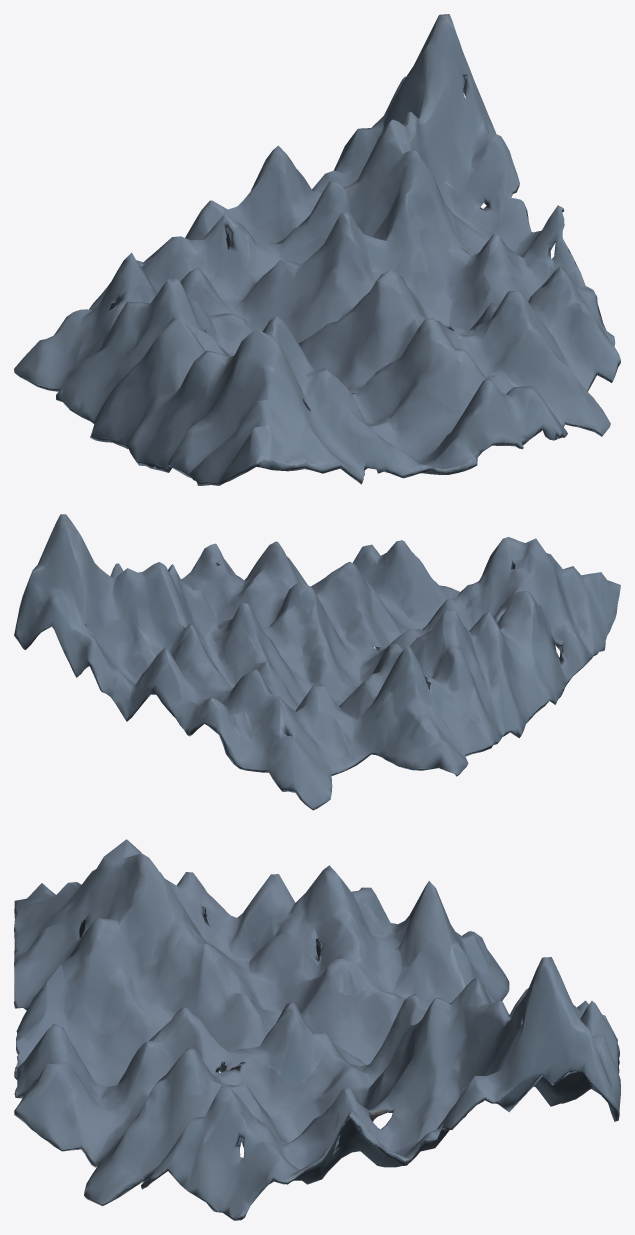
Rendered from BlueLowPolyMountains.fbx.
3 views of the same model, one above another, from view 1: azimuth 30°, elevation 25°; view 2: azimuth 150°, elevation 25°; view 3: azimuth 270°, elevation 25° (orthographic). The views are drawn at different scales.
Parts seen in each view (by area): view 1: BlueLowPolyMountains; view 2: BlueLowPolyMountains; view 3: BlueLowPolyMountains.
Part boxes in pixels (left/top/right/bottom): BlueLowPolyMountains: left=14, top=14, right=620, bottom=485; BlueLowPolyMountains: left=14, top=514, right=620, bottom=810; BlueLowPolyMountains: left=14, top=839, right=620, bottom=1220.
Bounding box in the file's own units: 200 × 100 × 199.
1 material, 1 textured.
